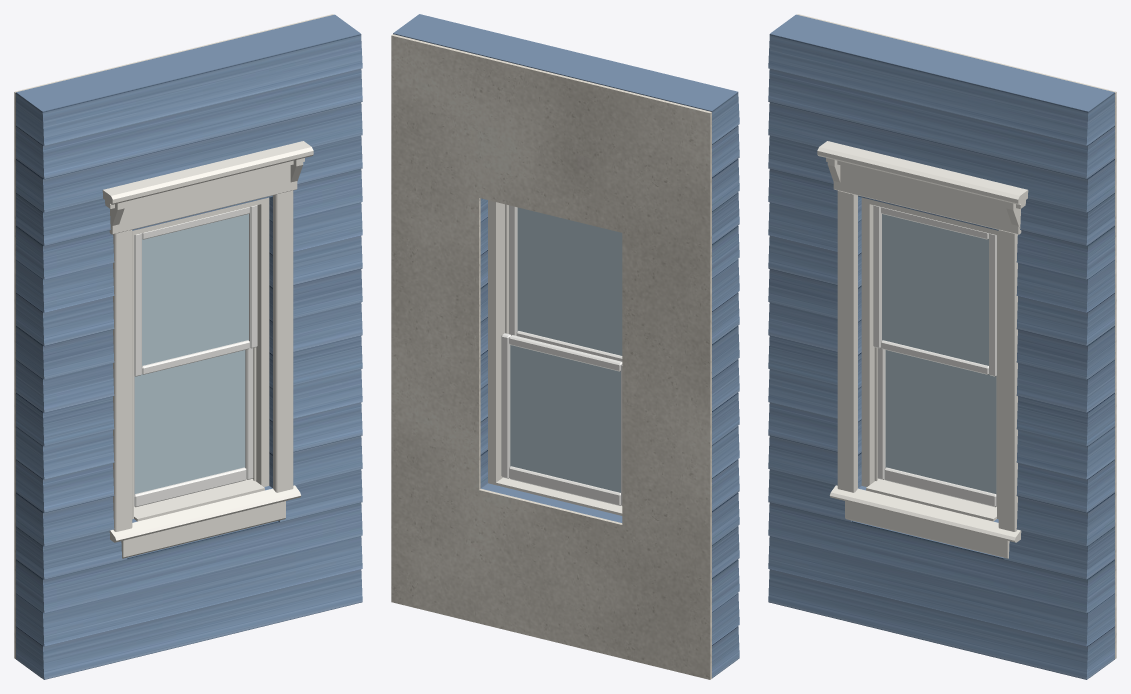
The model's file is f_u_win_d.glb.
3 renders of one model, left to right at view 1: azimuth 30°, elevation 25°; view 2: azimuth 150°, elevation 25°; view 3: azimuth 330°, elevation 25°, orthographic.
Visible parts, largest first — view 1: f_u_win_d_siding_d, f_u_win_d_trim, f_u_win_d_glass, f_u_win_d_sash, f_u_win_d_frame, f_u_win_d_plaster; view 2: f_u_win_d_plaster, f_u_win_d_siding_d, f_u_win_d_glass, f_u_win_d_sash, f_u_win_d_frame, f_u_win_d_trim; view 3: f_u_win_d_siding_d, f_u_win_d_trim, f_u_win_d_glass, f_u_win_d_sash, f_u_win_d_frame, f_u_win_d_plaster.
Part boxes in pixels (left/top/right/bottom): f_u_win_d_siding_d: left=16, top=14, right=362, bottom=679; f_u_win_d_trim: left=102, top=141, right=313, bottom=558; f_u_win_d_glass: left=134, top=214, right=248, bottom=493; f_u_win_d_sash: left=134, top=205, right=257, bottom=507; f_u_win_d_frame: left=132, top=197, right=269, bottom=519; f_u_win_d_plaster: left=14, top=14, right=333, bottom=658; f_u_win_d_plaster: left=391, top=34, right=711, bottom=679; f_u_win_d_siding_d: left=393, top=14, right=739, bottom=678; f_u_win_d_glass: left=510, top=207, right=622, bottom=492; f_u_win_d_sash: left=501, top=205, right=622, bottom=505; f_u_win_d_frame: left=488, top=200, right=508, bottom=484; f_u_win_d_trim: left=496, top=477, right=622, bottom=515; f_u_win_d_siding_d: left=768, top=14, right=1114, bottom=679; f_u_win_d_trim: left=817, top=141, right=1028, bottom=558; f_u_win_d_glass: left=882, top=214, right=996, bottom=493; f_u_win_d_sash: left=873, top=205, right=996, bottom=507; f_u_win_d_frame: left=861, top=197, right=998, bottom=519; f_u_win_d_plaster: left=797, top=14, right=1116, bottom=658.
Size of the model in its own units: 2 by 3.4 by 0.43.
6 materials, 2 textured.
